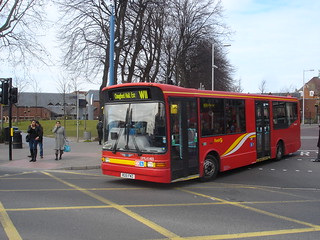bus: (100, 82, 301, 184)
